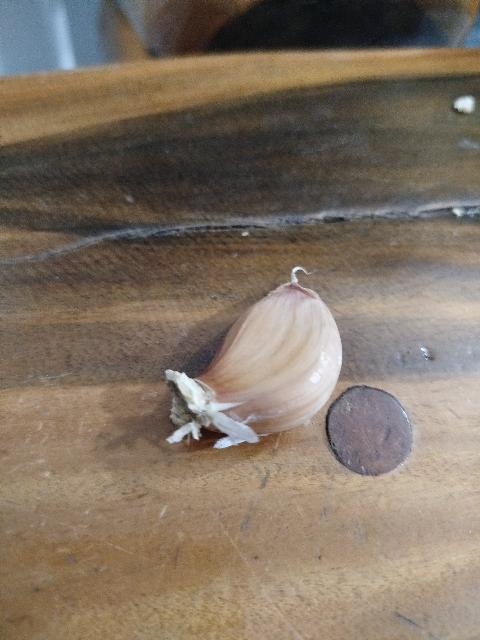garlic: (164, 266, 343, 449)
